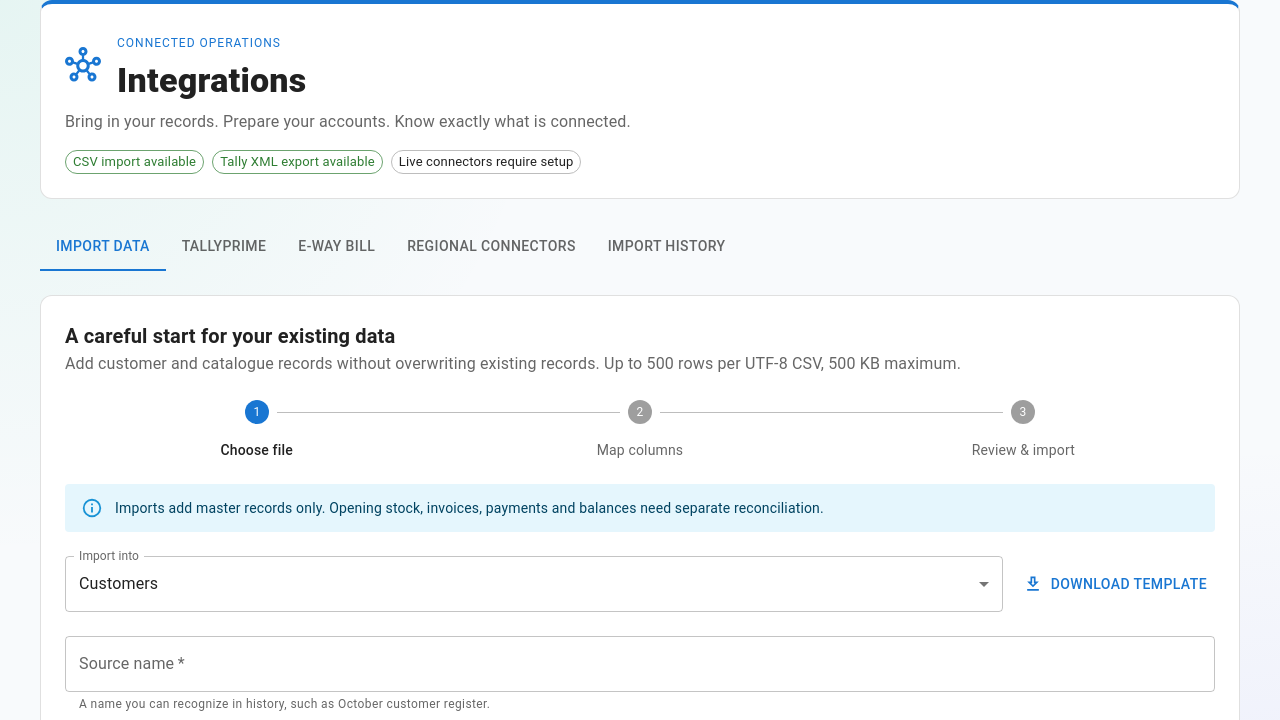
Test: offers a recoverable history failure
What coordinates should you click on to do the following:
click the tab "Import history"
I would click on:
 (667, 247)
Its box is x1=592 y1=223 x2=742 y2=271.
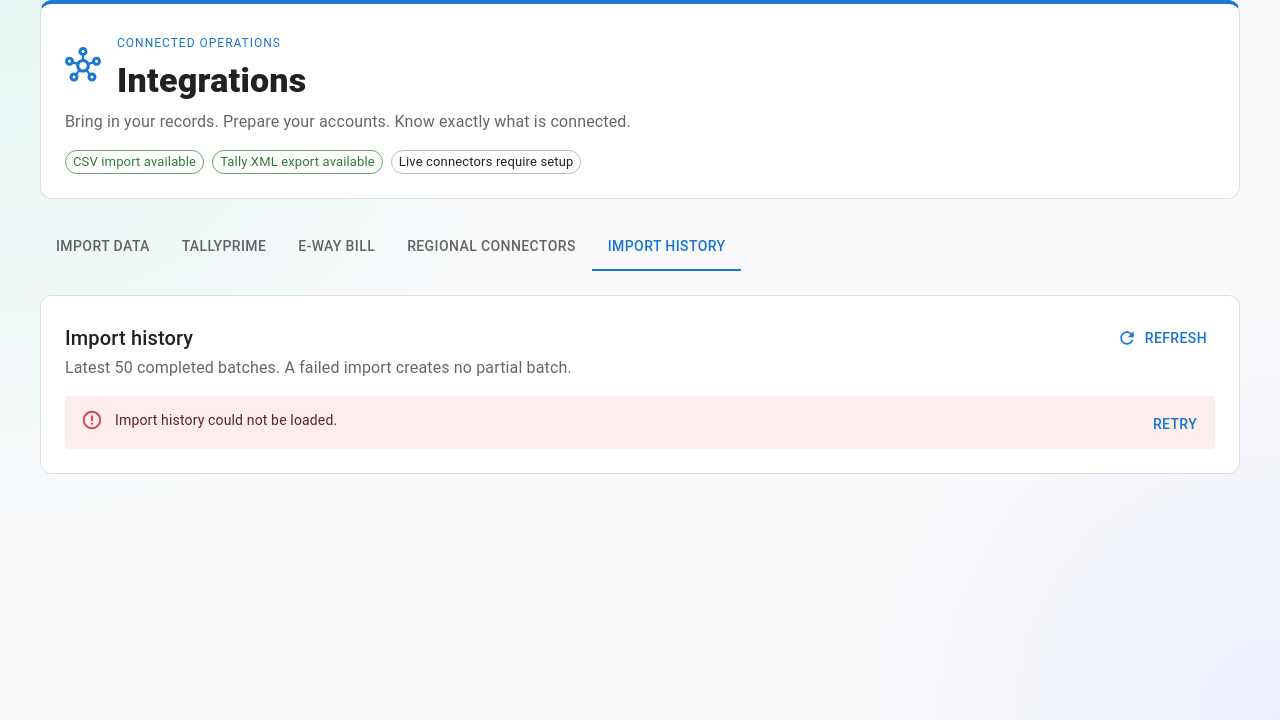
Expected: the text "Import history could not be loaded." is shown, x1=115 y1=412 x2=337 y2=428
Expected: the button "Retry" is enabled, x1=1143 y1=406 x2=1207 y2=443
